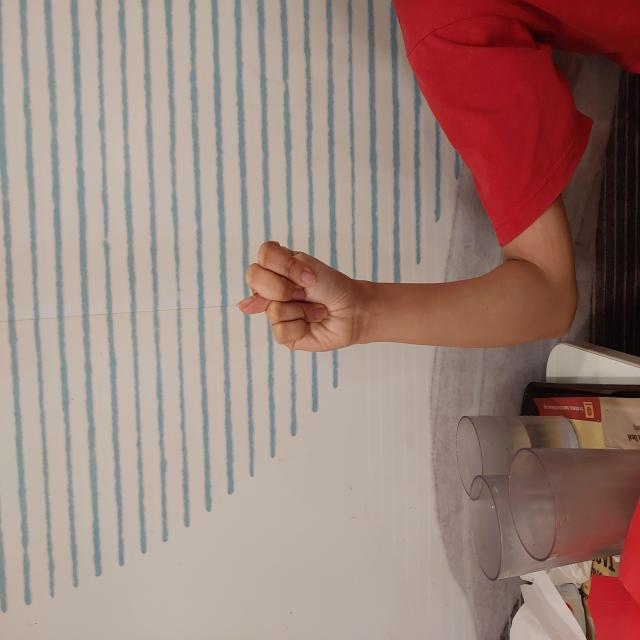N: (284, 234, 402, 364)
